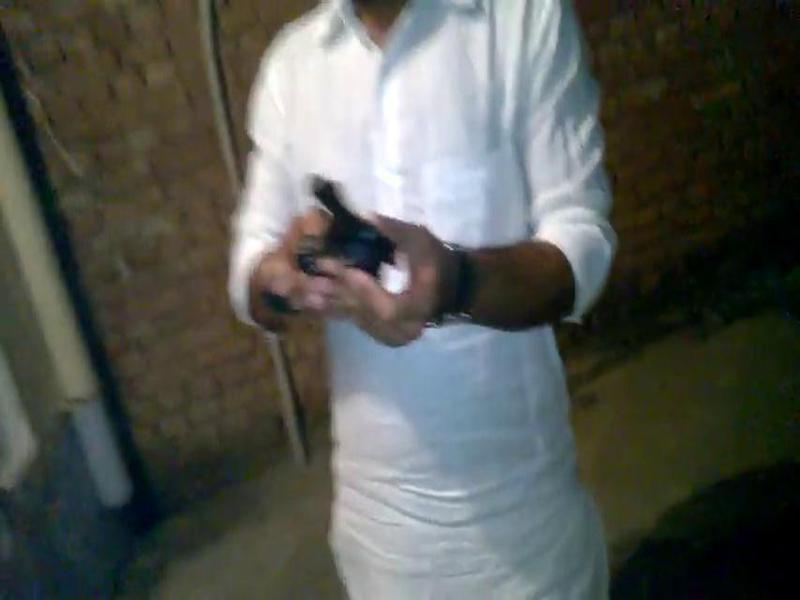Revolver: (283, 163, 400, 307)
